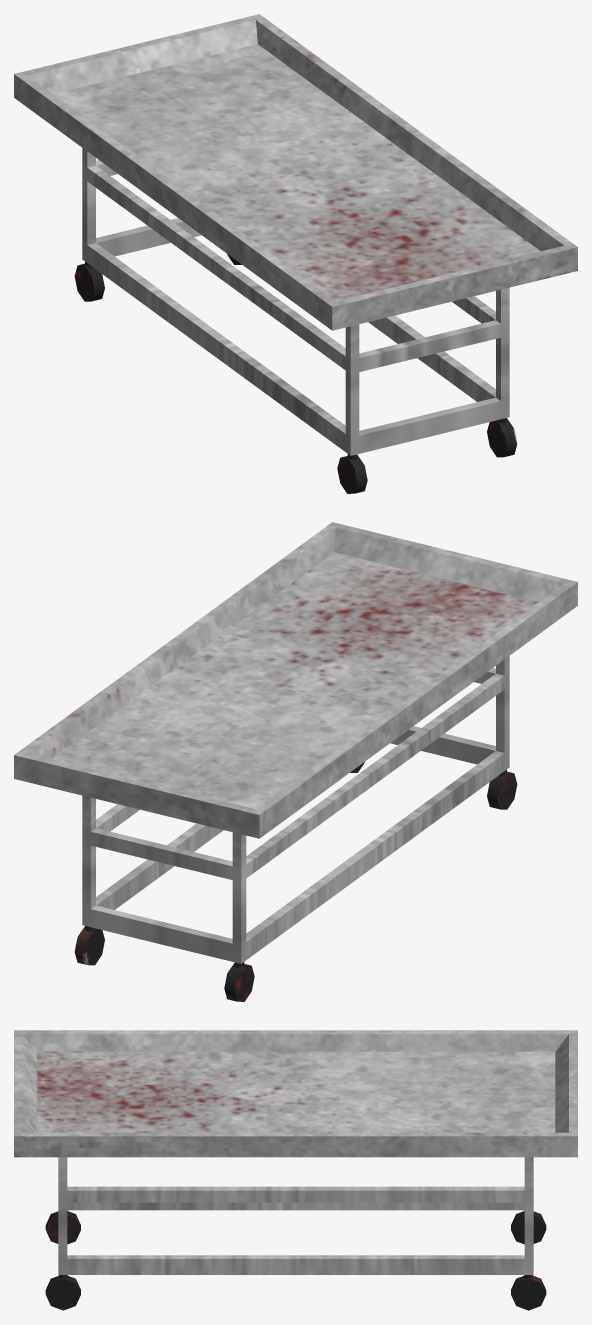
File: Autopsy-Table.glb
3 views of the same model, one above another, from view 1: azimuth 30°, elevation 25°; view 2: azimuth 150°, elevation 25°; view 3: azimuth 270°, elevation 25° (orthographic). The views are drawn at different scales.
Parts seen in each view (by area): view 1: 1_autopsyTable.001; view 2: 1_autopsyTable.001; view 3: 1_autopsyTable.001.
Part boxes in pixels (x1,y1,x2,y2): 1_autopsyTable.001: (14,14,577,493); 1_autopsyTable.001: (14,522,577,1001); 1_autopsyTable.001: (14,1030,577,1310).
Size of the model in its own units: 5.66 by 4.79 by 12.71.
1 material, 1 textured.
